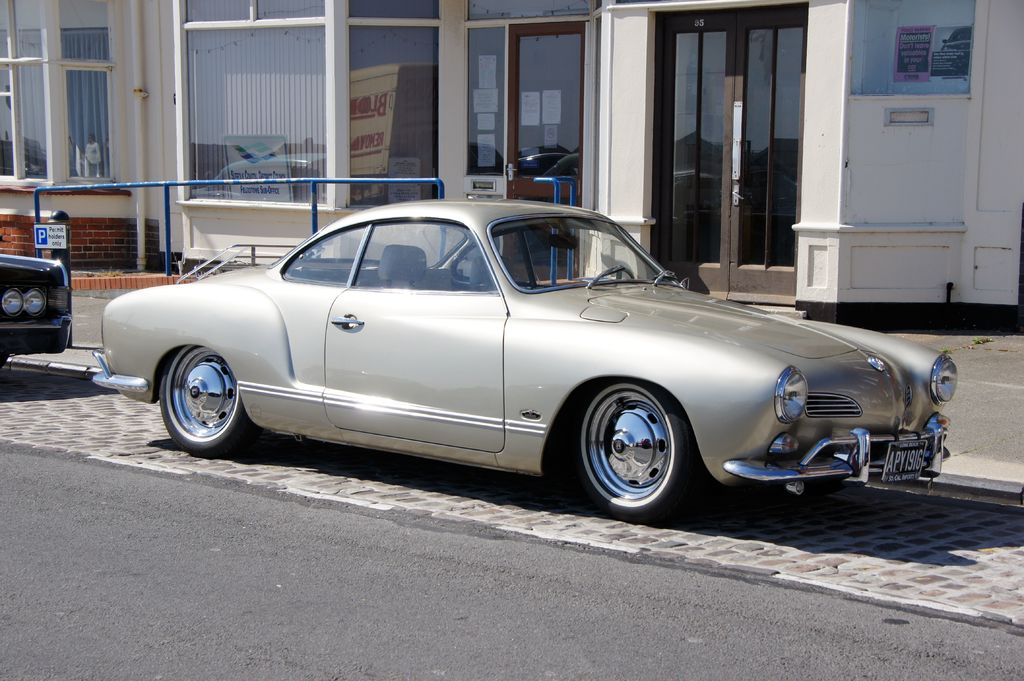Car: (90, 204, 931, 511), (0, 250, 73, 362)
